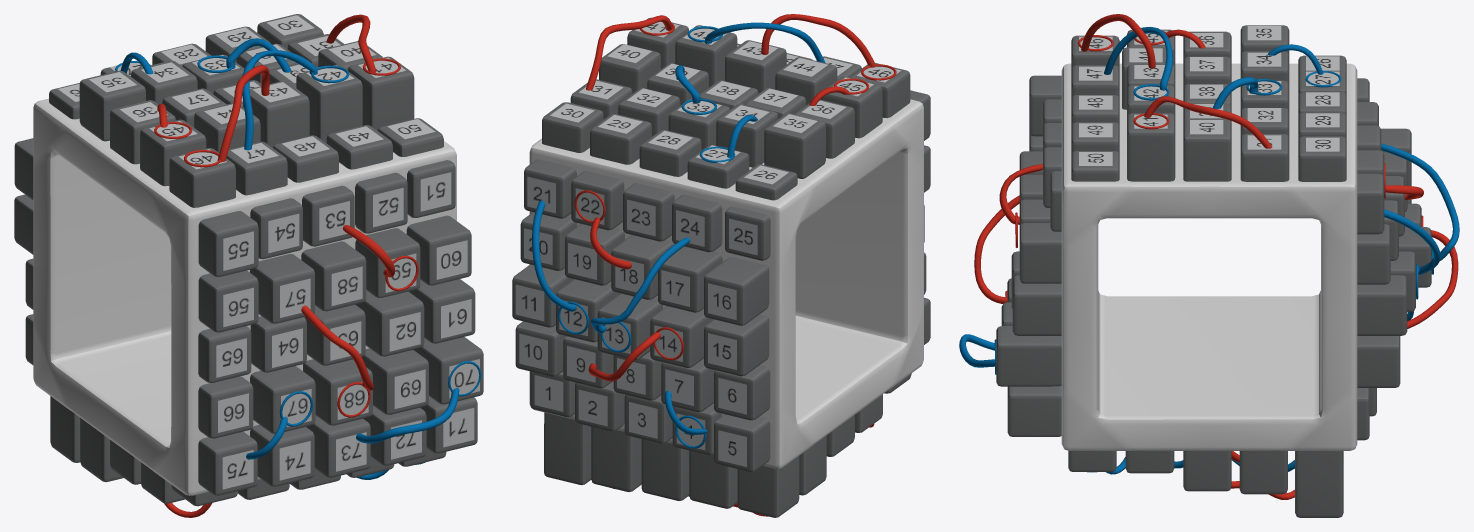
The model's file is BombCube.fbx.
3 renders of one model, left to right at view 1: azimuth 30°, elevation 25°; view 2: azimuth 150°, elevation 25°; view 3: azimuth 270°, elevation 25°, orthographic. The views are drawn at different scales.
Visible parts, largest first — view 1: CubeBody, c20_1, c19_1, c25_1, c17_2, c18_1, c7_2, c12_2, c5_2, c10_2, c8_2, c20_2 (+80 smaller); view 2: CubeBody, c21_3, c16, c25_3, c22_3, c6_1, c23_3, c15, c24_3, c17, c14, c5 (+84 smaller); view 3: CubeBody, c19_2, c21_3, c19_1, c11, c21_2, c11_2, c11_1, c10_2, c10, c19_3, c11_3 (+41 smaller).
Boxes of the visible parts, bbox=[...] form: CubeBody: bbox=[33, 98, 456, 495]; c20_1: bbox=[296, 64, 362, 143]; c19_1: bbox=[348, 56, 414, 130]; c25_1: bbox=[169, 148, 235, 207]; c17_2: bbox=[250, 366, 315, 433]; c18_1: bbox=[243, 80, 309, 147]; c7_2: bbox=[250, 253, 314, 323]; c12_2: bbox=[355, 290, 424, 356]; c5_2: bbox=[198, 211, 258, 276]; c10_2: bbox=[406, 215, 471, 285]; c8_2: bbox=[301, 241, 366, 311]; c20_2: bbox=[362, 348, 428, 414]; CubeBody: bbox=[529, 99, 923, 468]; c21_3: bbox=[544, 412, 591, 485]; c16: bbox=[704, 257, 769, 325]; c25_3: bbox=[737, 456, 799, 517]; c22_3: bbox=[591, 426, 641, 492]; c6_1: bbox=[764, 113, 825, 178]; c23_3: bbox=[641, 439, 689, 500]; c15: bbox=[704, 314, 769, 376]; c24_3: bbox=[689, 450, 737, 508]; c17: bbox=[658, 246, 722, 312]; c14: bbox=[650, 306, 713, 367]; c5: bbox=[714, 414, 770, 471]; CubeBody: bbox=[1061, 63, 1357, 450]; c19_2: bbox=[996, 326, 1061, 386]; c21_3: bbox=[1295, 451, 1343, 517]; c19_1: bbox=[1127, 113, 1175, 181]; c11: bbox=[1357, 275, 1407, 335]; c21_2: bbox=[1007, 386, 1061, 436]; c11_2: bbox=[1012, 275, 1061, 335]; c11_1: bbox=[1183, 119, 1231, 181]; c10_2: bbox=[1019, 223, 1061, 283]; c10: bbox=[1357, 336, 1400, 387]; c19_3: bbox=[1239, 450, 1287, 494]; c11_3: bbox=[1183, 451, 1231, 491].
Bounding box in the file's own units: 5.04 × 8.42 × 8.54.
